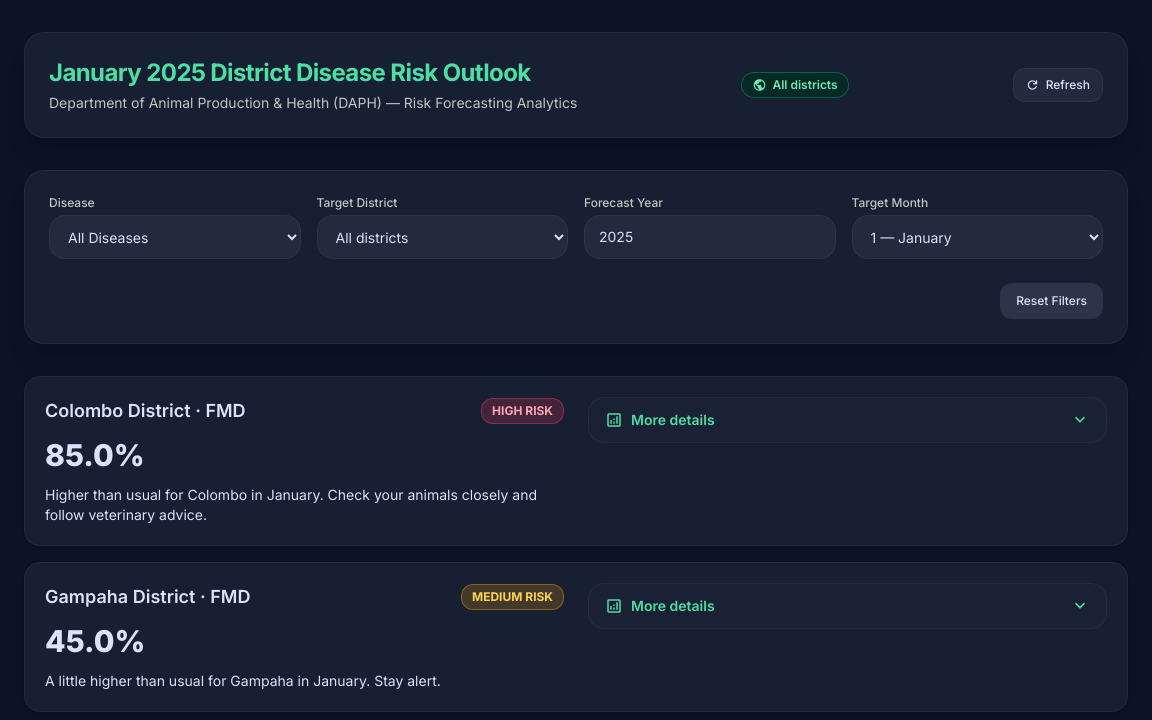
it: DaphDistrictForecasts Component › 12. District filter works
The image size is (1152, 720).
expect the heading "Colombo District · FMD" is shown: met, box [45,397,246,425]
Select "Colombo" in the dropdown labelled "Target District" at coordinates (442, 237), box [316,215,568,259]
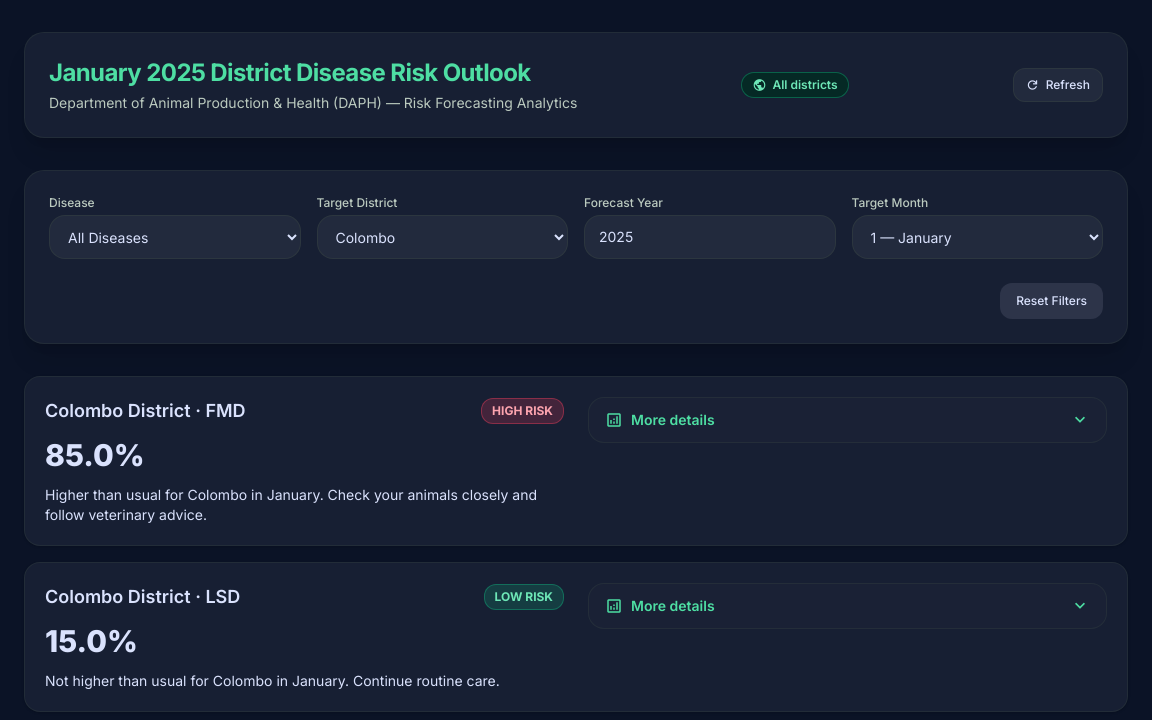
expect the heading "Gampaha District · FMD" is gone: met
